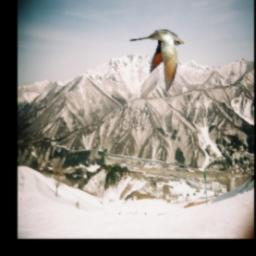Cuckoo: (130, 31, 185, 93)
